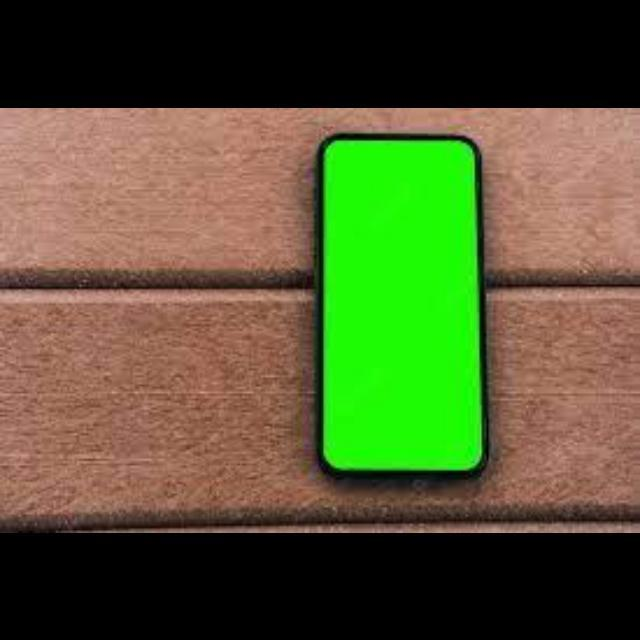PhoneUse: (315, 130, 491, 480)
